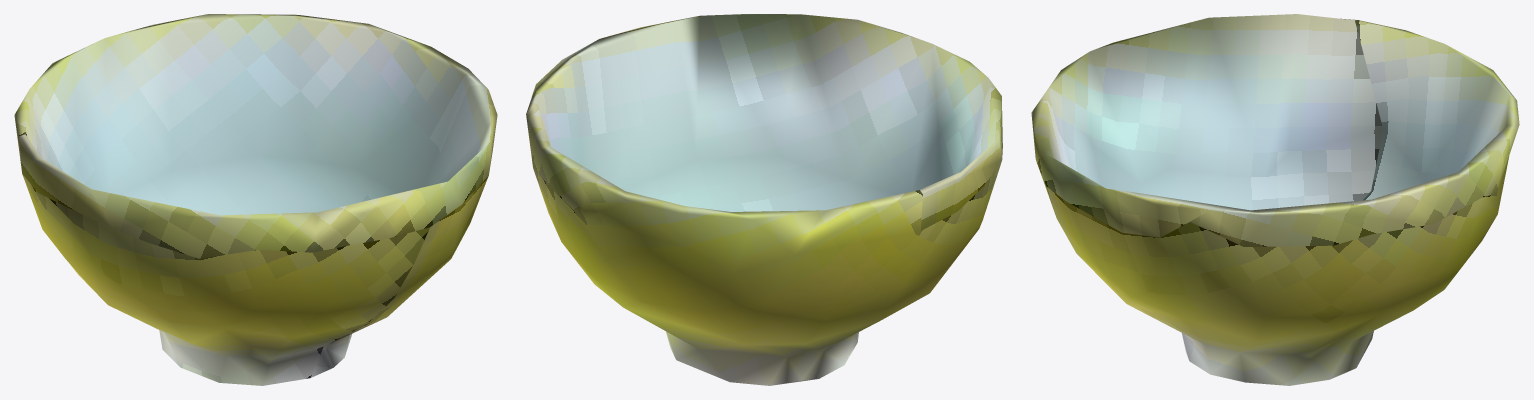
Rendered from Cole_Hardware_Bowl_Scirocco_YellowBlue-low.glb.
3 views of the same model, side by side, from view 1: azimuth 30°, elevation 25°; view 2: azimuth 150°, elevation 25°; view 3: azimuth 270°, elevation 25° (orthographic).
Visible parts, largest first — view 1: Cole_Hardware_Bowl_Scirocco_YellowBlue; view 2: Cole_Hardware_Bowl_Scirocco_YellowBlue; view 3: Cole_Hardware_Bowl_Scirocco_YellowBlue.
Part boxes in pixels (x1,y1,x2,y2): Cole_Hardware_Bowl_Scirocco_YellowBlue: (14, 14, 497, 385); Cole_Hardware_Bowl_Scirocco_YellowBlue: (526, 14, 1002, 385); Cole_Hardware_Bowl_Scirocco_YellowBlue: (1031, 14, 1519, 385).
Size of the model in its own units: 0.1133 by 0.0614 by 0.1146.
Materials: 1 (1 with a texture image).
